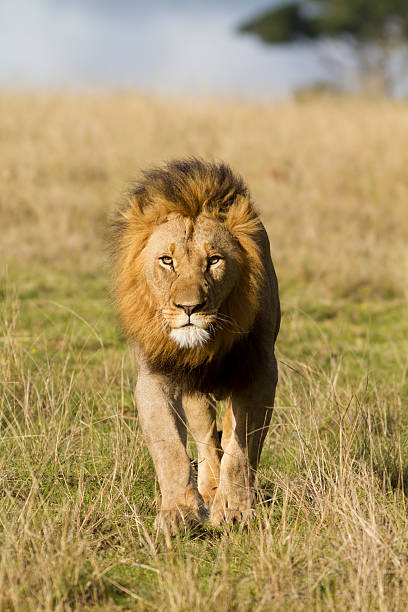lion: (78, 133, 300, 426)
